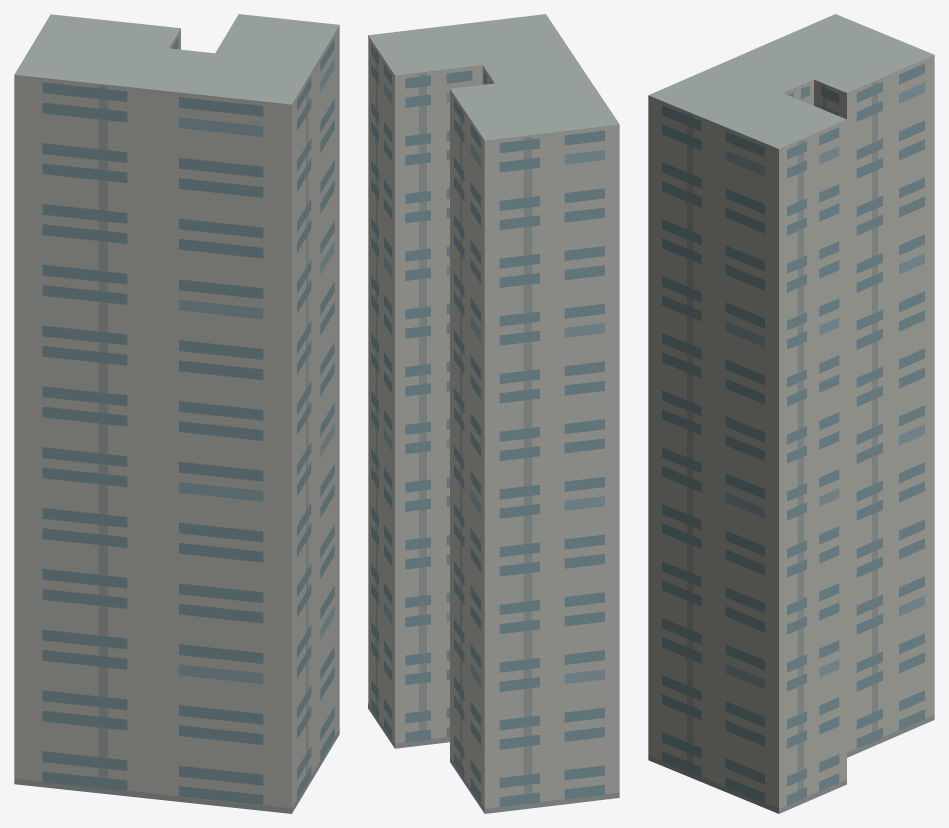
The model's file is residential-52d0760e-3381-4e5f-88b4-ab07489fd928.glb.
3 renders of one model, left to right at view 1: azimuth 30°, elevation 25°; view 2: azimuth 150°, elevation 25°; view 3: azimuth 270°, elevation 25°, orthographic. The views are drawn at different scales.
Visible parts, largest first — view 1: residential-52d0760e-3381-4e5f-88b4-ab07489fd928.tmp; view 2: residential-52d0760e-3381-4e5f-88b4-ab07489fd928.tmp; view 3: residential-52d0760e-3381-4e5f-88b4-ab07489fd928.tmp.
Part boxes in pixels (bbox=[...]): residential-52d0760e-3381-4e5f-88b4-ab07489fd928.tmp: bbox=[14, 14, 339, 813]; residential-52d0760e-3381-4e5f-88b4-ab07489fd928.tmp: bbox=[368, 14, 619, 813]; residential-52d0760e-3381-4e5f-88b4-ab07489fd928.tmp: bbox=[648, 14, 934, 813].
Size of the model in its own units: 43.57 by 100 by 39.06.
